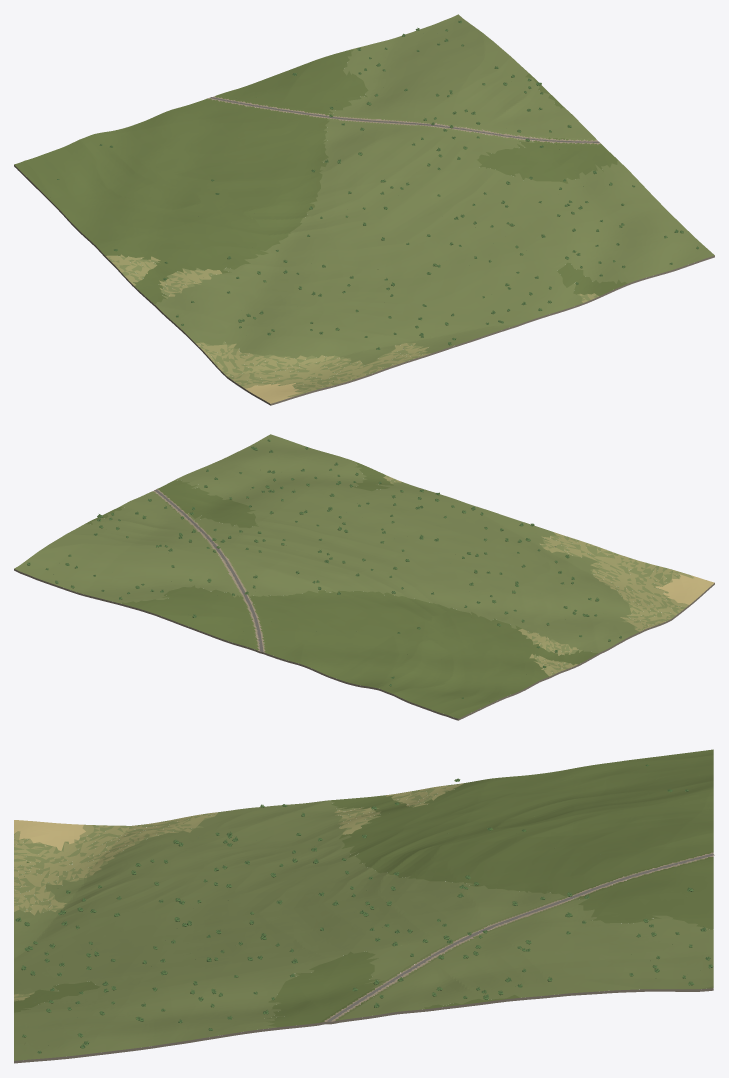
Rendered from parca_+5_-1-yakin.glb.
3 views of the same model, one above another, from view 1: azimuth 30°, elevation 25°; view 2: azimuth 150°, elevation 25°; view 3: azimuth 270°, elevation 25° (orthographic). The views are drawn at different scales.
Visible parts, largest first — view 1: parca_+5_-1_arazi, parca_+5_-1_bitkiler, parca_+5_-1_yollar; view 2: parca_+5_-1_arazi, parca_+5_-1_bitkiler, parca_+5_-1_yollar; view 3: parca_+5_-1_arazi, parca_+5_-1_bitkiler, parca_+5_-1_yollar.
Boxes of the visible parts, x1,y1,x2,y2 form: parca_+5_-1_arazi: [14, 14, 714, 405]; parca_+5_-1_bitkiler: [57, 20, 698, 381]; parca_+5_-1_yollar: [210, 97, 599, 142]; parca_+5_-1_arazi: [14, 434, 714, 720]; parca_+5_-1_bitkiler: [27, 439, 642, 698]; parca_+5_-1_yollar: [154, 489, 263, 651]; parca_+5_-1_arazi: [14, 749, 713, 1063]; parca_+5_-1_bitkiler: [15, 764, 713, 1053]; parca_+5_-1_yollar: [327, 853, 714, 1021].
Size of the model in its own units: 1001 by 218 by 1002.
